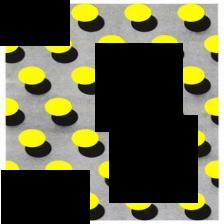yellow: (177, 3, 206, 22), (18, 3, 46, 22), (71, 3, 99, 22), (124, 3, 152, 22), (125, 129, 153, 148), (18, 192, 46, 211), (71, 192, 99, 211), (125, 192, 153, 211), (178, 192, 206, 211), (72, 129, 99, 148), (18, 66, 46, 84), (177, 66, 205, 84), (18, 129, 46, 147), (98, 98, 125, 116), (152, 98, 179, 116), (45, 98, 72, 116), (179, 129, 206, 147), (99, 35, 125, 53), (46, 35, 72, 53), (152, 35, 178, 53), (152, 161, 178, 179), (99, 161, 125, 179), (46, 161, 72, 179), (72, 67, 99, 84), (125, 67, 152, 84), (205, 161, 220, 179), (205, 35, 219, 53), (205, 98, 219, 116), (6, 35, 19, 53), (6, 98, 19, 116), (6, 161, 19, 179)
